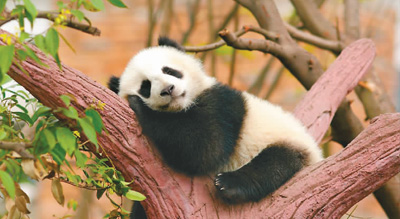panda: (106, 39, 341, 206)
